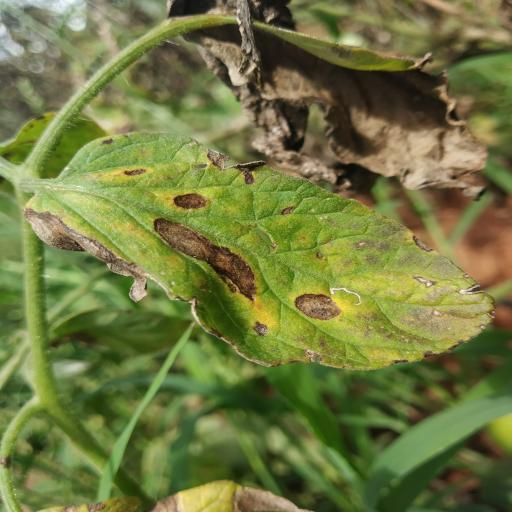Early Blight: (20, 131, 502, 370)
